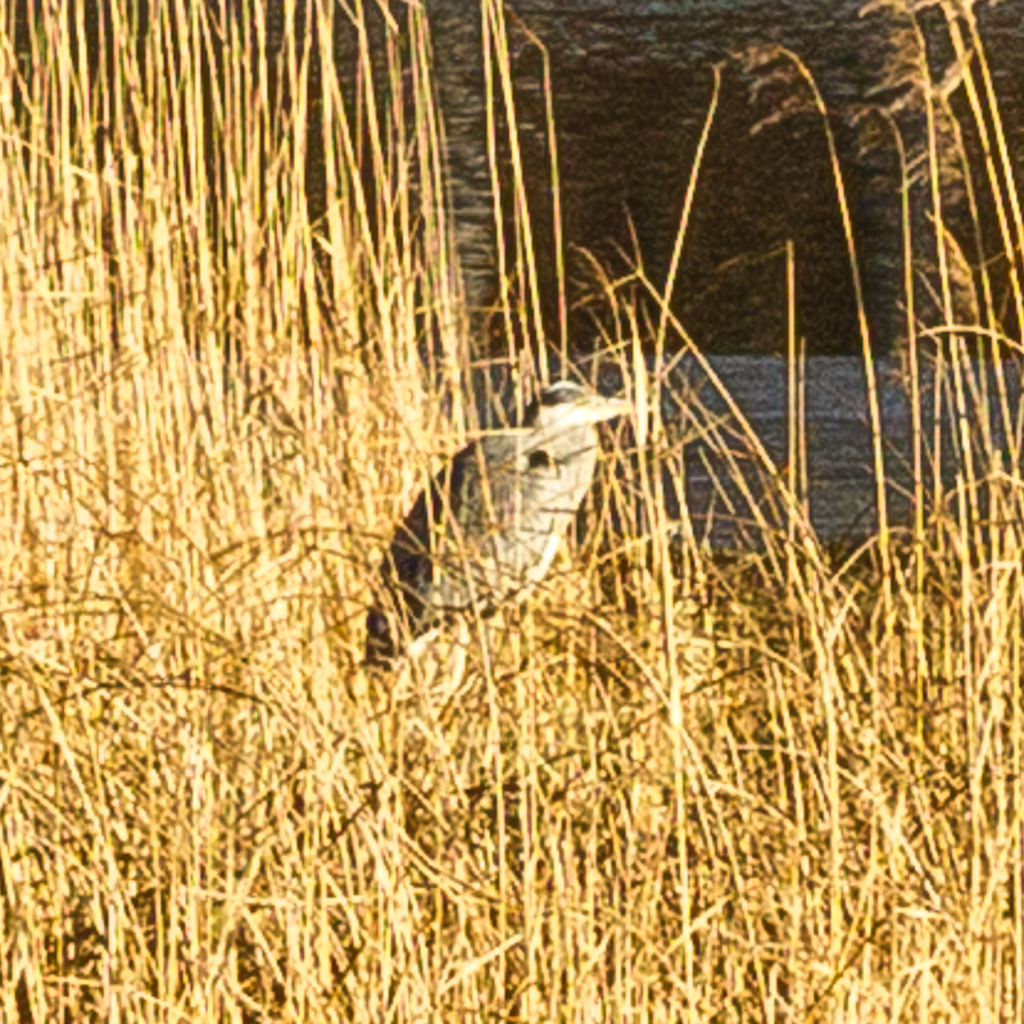heron: (356, 378, 657, 725)
